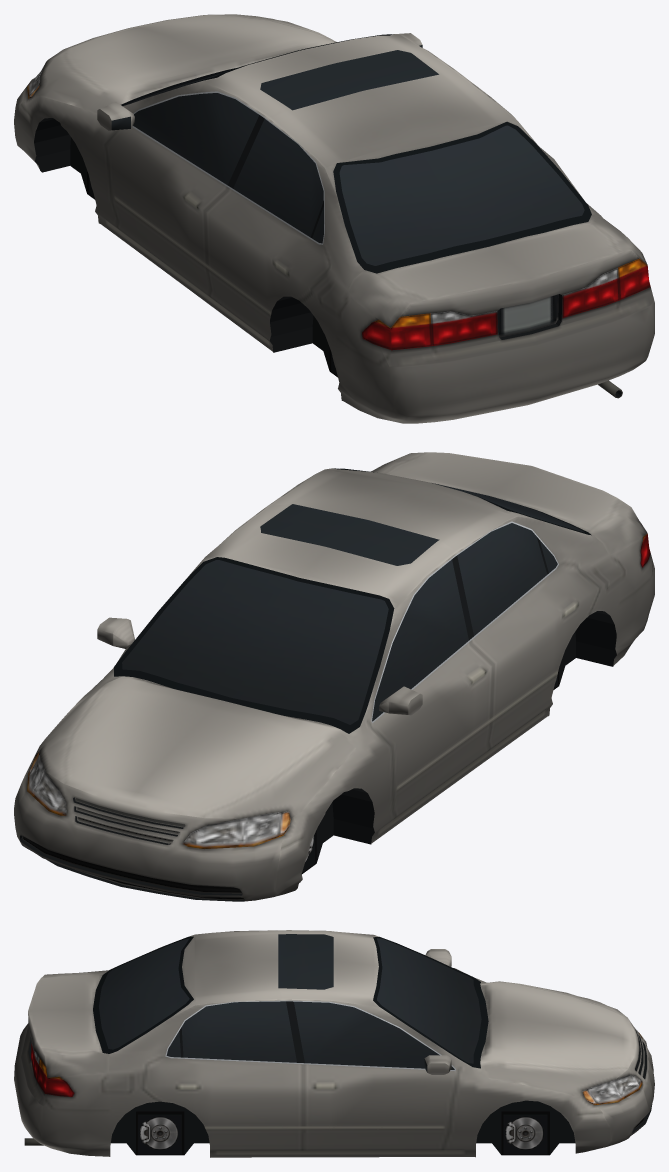
File: sedan_98.obj
The picture shows the model from 3 angles, top to bottom: view 1: azimuth 30°, elevation 25°; view 2: azimuth 150°, elevation 25°; view 3: azimuth 270°, elevation 25°; orthographic projection. The views are drawn at different scales.
Parts seen in each view (by area): view 1: sedan_98; view 2: sedan_98; view 3: sedan_98.
Part boxes in pixels (x1,y1,x2,y2): sedan_98: (14,14,654,423); sedan_98: (14,452,654,901); sedan_98: (14,930,654,1157).
Bounding box in the file's own units: 1.98 × 1.29 × 4.68.
